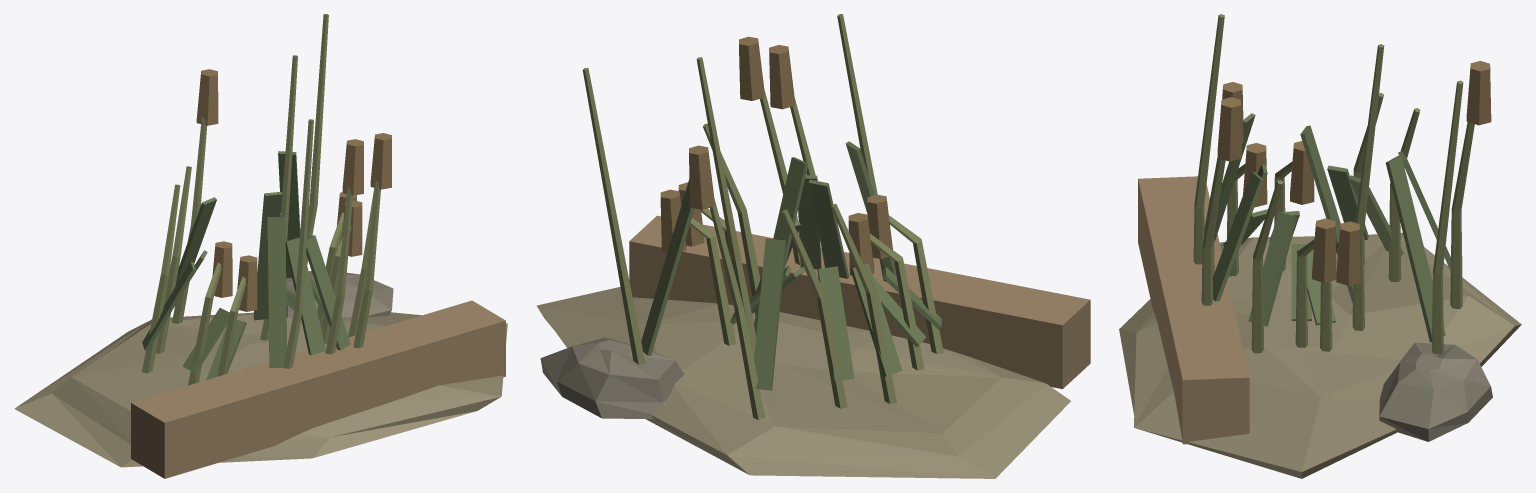
Rendered from reed-debris.glb.
3 renders of one model, left to right at view 1: azimuth 30°, elevation 25°; view 2: azimuth 150°, elevation 25°; view 3: azimuth 270°, elevation 25°, orthographic. The views are drawn at different scales.
Parts seen in each view (by area): view 1: reed-debris; view 2: reed-debris; view 3: reed-debris.
Part boxes in pixels (<box>): reed-debris: <box>14,14,507,478</box>; reed-debris: <box>537,14,1090,478</box>; reed-debris: <box>1119,14,1521,478</box>.
Size of the model in its own units: 1.59 by 1 by 1.08.
